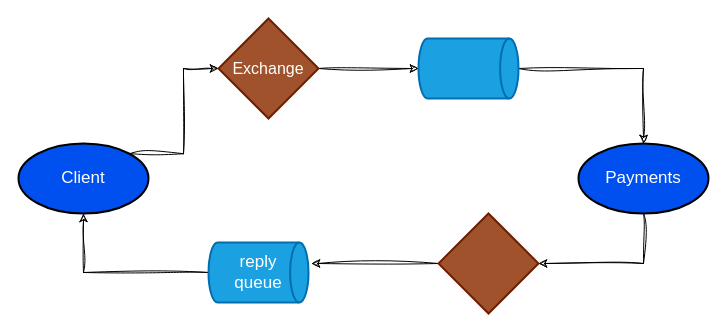
This 726x331 diagram has some shape labels left out. The shapes that lost their labels are listed below. From the top down, each one's centre as x and y in pixels, then its label:
[468,68]: request queue
[488,263]: Default Exchange
